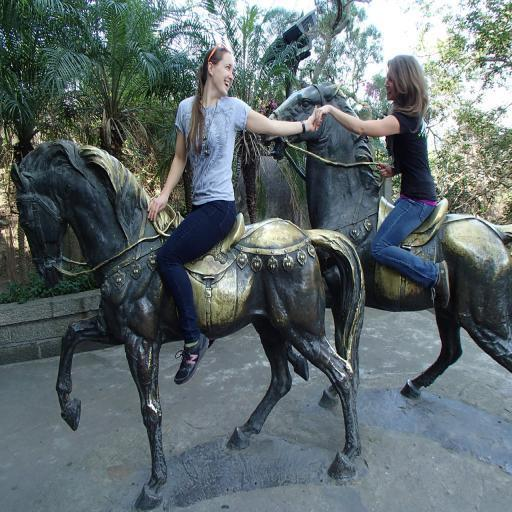horse: (8, 140, 366, 512), (258, 79, 512, 412)
